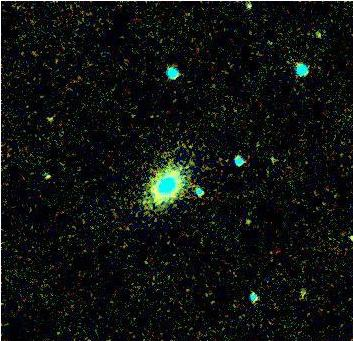star: (232, 203, 262, 233)
